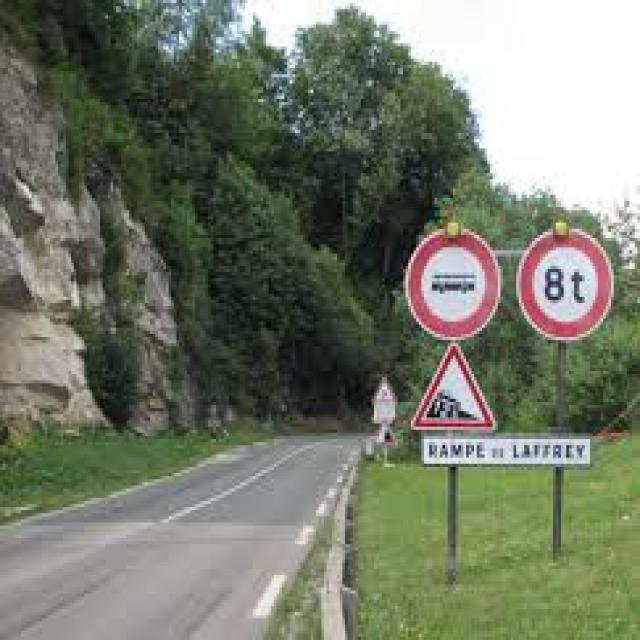forbidden: (516, 219, 611, 346), (404, 224, 503, 337)
slope_danger: (409, 342, 504, 434)
